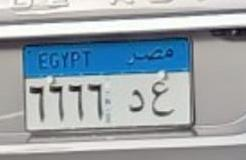6: (44, 80, 65, 123), (87, 78, 106, 121), (66, 80, 84, 123), (28, 82, 47, 122)
د: (120, 84, 143, 120)
ع: (148, 71, 172, 122)
